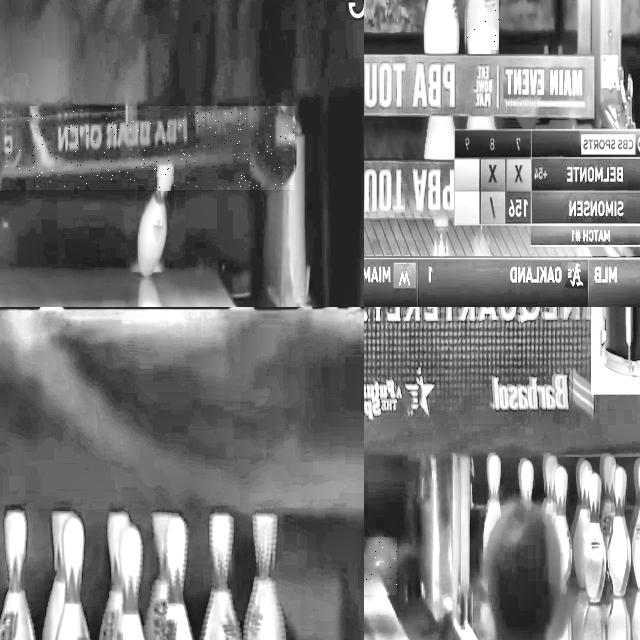bowling-ball: (364, 537, 397, 594)
bowling-pins: (244, 514, 286, 640), (201, 513, 241, 640), (0, 510, 35, 640), (56, 515, 89, 640), (99, 512, 130, 640), (42, 511, 72, 640), (145, 513, 175, 640), (166, 515, 194, 640), (119, 525, 145, 640), (424, 0, 460, 54), (466, 0, 499, 51)
sweep board: (0, 106, 295, 189), (364, 54, 596, 119)
